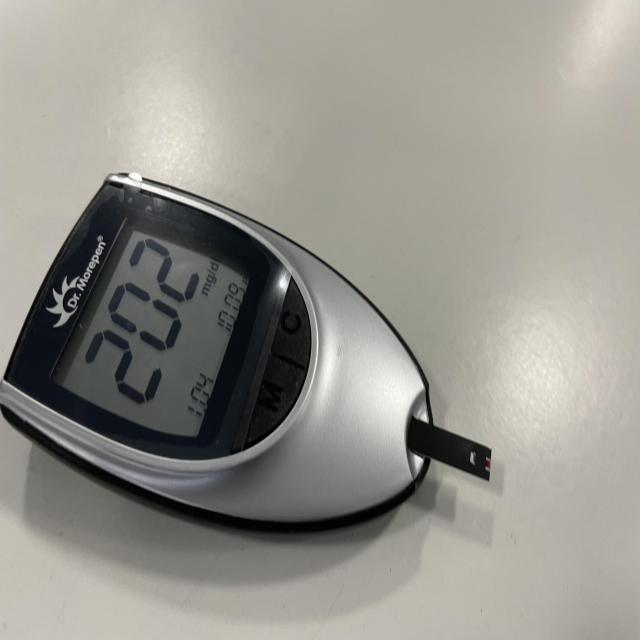gluco: (0, 173, 490, 534)
